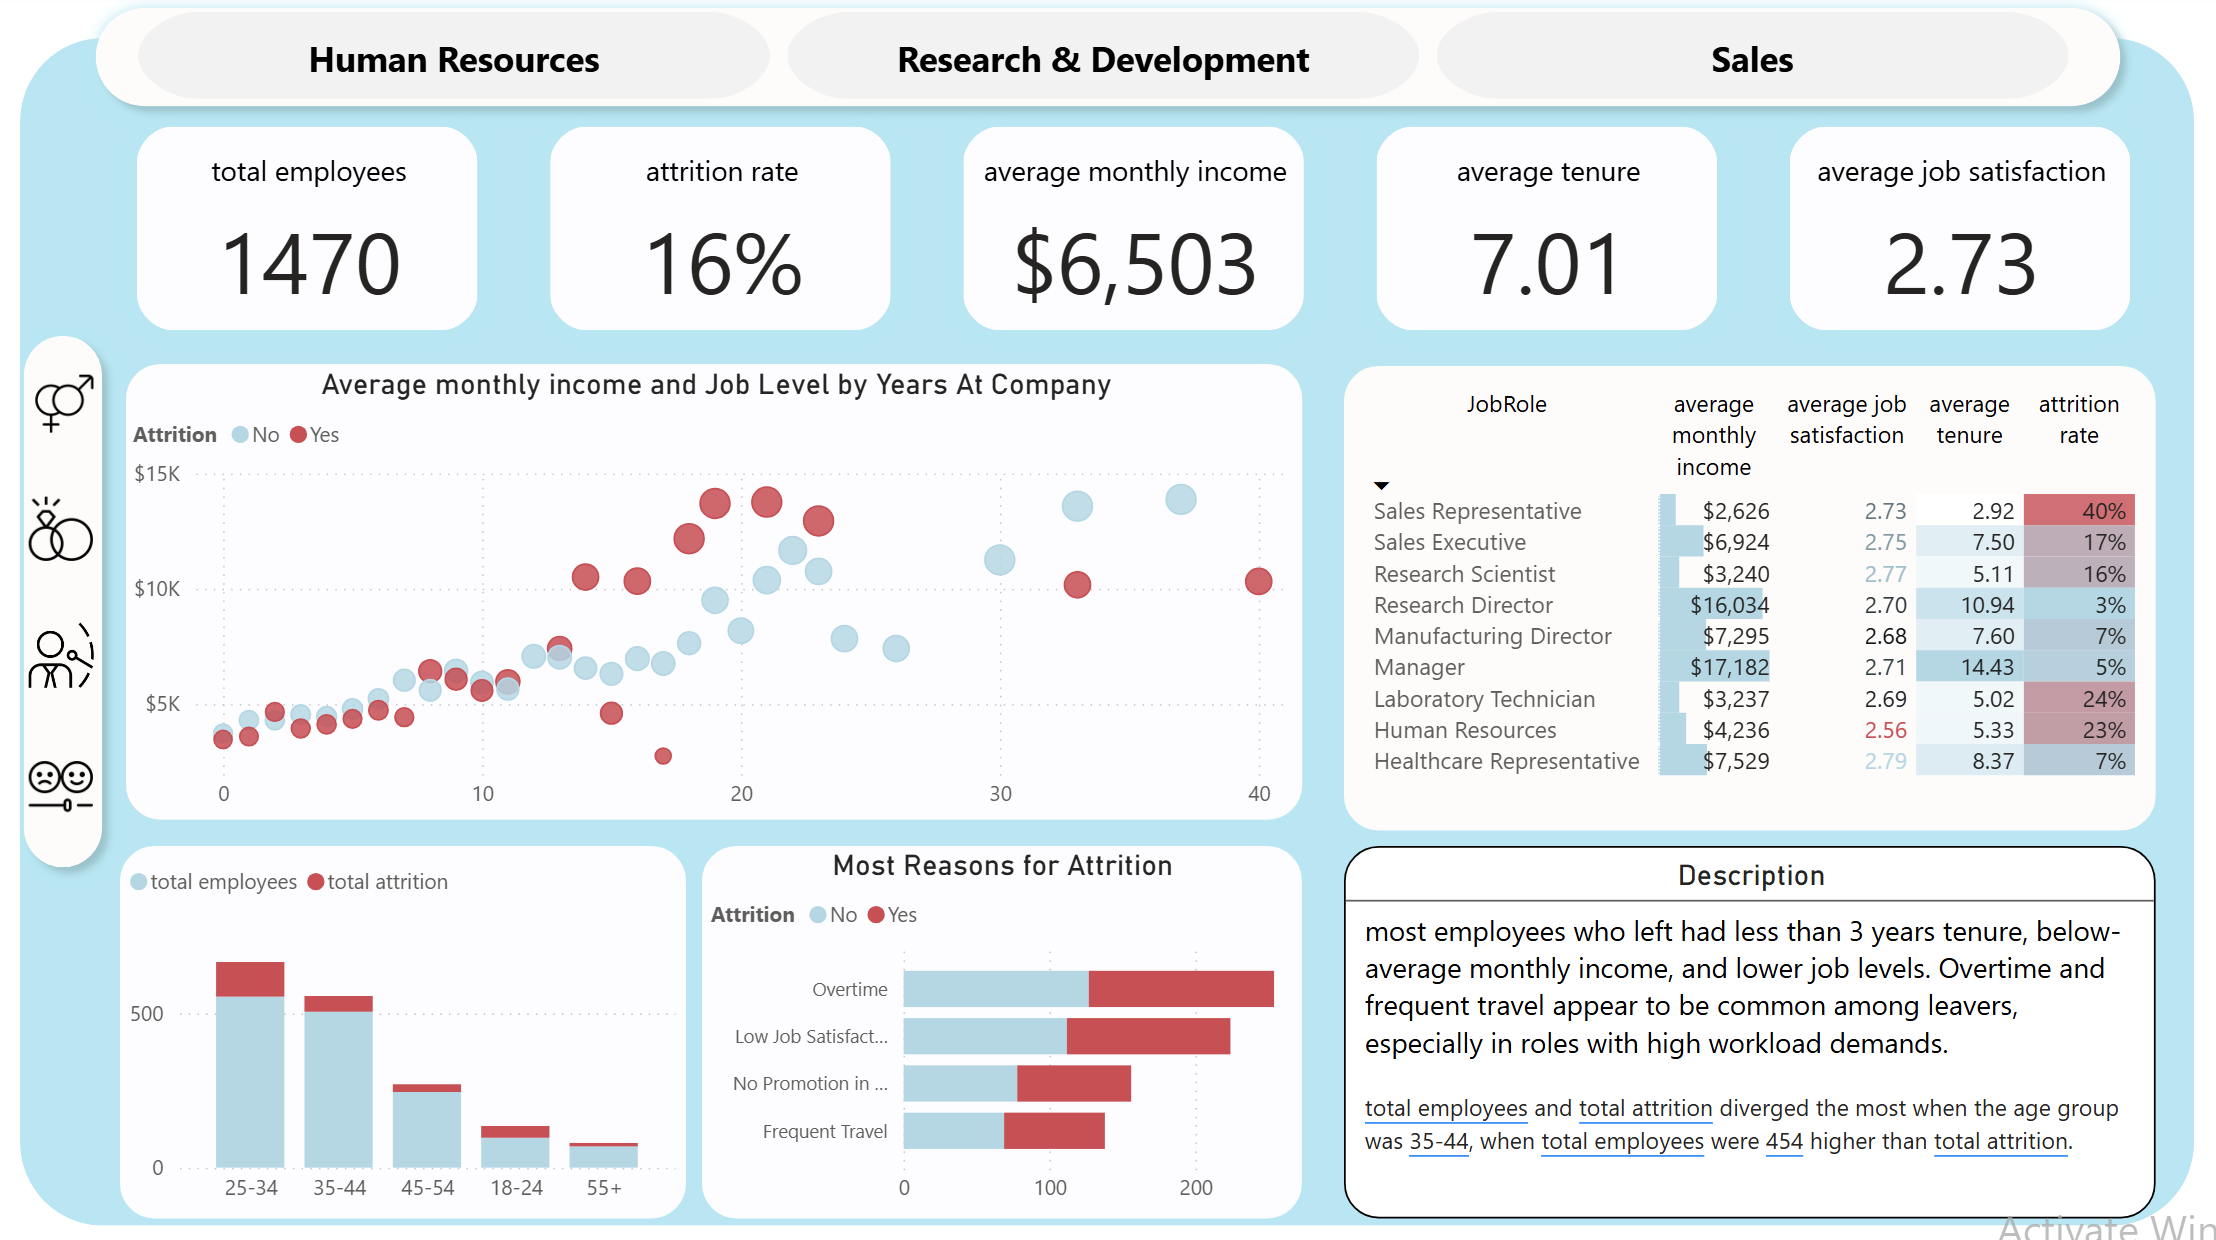

This screenshot's page, from the dashboard's own definition file:
{"tool":"powerbi","page":{"name":"Page 1","canvas":[1280,720],"ordinal":0},"visuals":[{"type":"shape","box":[13.2,26.4,1252.3,684.2],"z":0},{"type":"shape","box":[5.3,188.5,63.3,324.3],"z":1000},{"type":"shape","box":[47.2,0,1184.3,74.9],"z":2000},{"type":"cardVisual","fields":{"Data":["Table.total employees","Table.attrition rate","Table.average monthly income","Table.average tenure","Table.average job satisfaction"]},"box":[69.1,65.7,1173.9,140.5],"z":3000},{"type":"barChart","title":"Most Reasons for Attrition","fields":{"Series":["ibm_hr.Attrition"],"Category":["Reasons.Reason"],"Y":["ibm_hr.Reason Status Count"]},"box":[405.5,491.9,345.6,214.3],"z":4000},{"type":"columnChart","fields":{"Y":["Table.total employees","Table.total attrition"],"Category":["ibm_hr.age group"]},"box":[70.3,491.9,326,214.3],"z":5000},{"type":"scatterChart","title":"Average monthly income and Job Level by Years At Company","fields":{"X":["ibm_hr.YearsAtCompany"],"Y":["Table.average monthly income"],"Size":["Avg(ibm_hr.JobLevel)"],"Series":["ibm_hr.Attrition"]},"box":[73.7,214.3,677.4,262.7],"z":6000},{"type":"pivotTable","fields":{"Rows":["ibm_hr.JobRole"],"Values":["Table.average monthly income","Table.average job satisfaction","Table.average tenure","Table.attrition rate"]},"box":[775.3,215.4,467.7,267.3],"z":7000},{"type":"textbox","title":"Description","box":[775.3,491.9,467.7,214.3],"z":8000},{"type":"advancedSlicerVisual","fields":{"Values":["ibm_hr.Department"]},"box":[80.6,11.5,1112.8,50.7],"z":9000},{"type":"image","box":[14.6,215.5,47,43.7],"z":10000},{"type":"image","box":[13,285.2,47,47],"z":11000},{"type":"image","box":[13.2,358.6,47.5,47.5],"z":12000},{"type":"image","box":[13,431,47,51.8],"z":13000}]}

Visuals, with their boxes in screenshot pixels (x1, y1, x2, y2), scaled from the page's 1280x720 canvas onto the 2216x1240 screenshot:
shape: detection(23, 45, 2191, 1224)
shape: detection(9, 325, 119, 883)
shape: detection(82, 0, 2132, 129)
cardVisual - Table.total employees x Table.attrition rate: detection(120, 113, 2152, 355)
"Most Reasons for Attrition" barChart: detection(702, 847, 1300, 1216)
columnChart - Table.total employees x Table.total attrition: detection(122, 847, 686, 1216)
"Average monthly income and Job Level by Years At Company" scatterChart: detection(128, 369, 1300, 822)
pivotTable - ibm_hr.JobRole x Table.average monthly income: detection(1342, 371, 2152, 831)
"Description" textbox: detection(1342, 847, 2152, 1216)
advancedSlicerVisual - ibm_hr.Department: detection(140, 20, 2066, 107)
image: detection(25, 371, 107, 446)
image: detection(23, 491, 104, 572)
image: detection(23, 618, 105, 699)
image: detection(23, 742, 104, 831)
